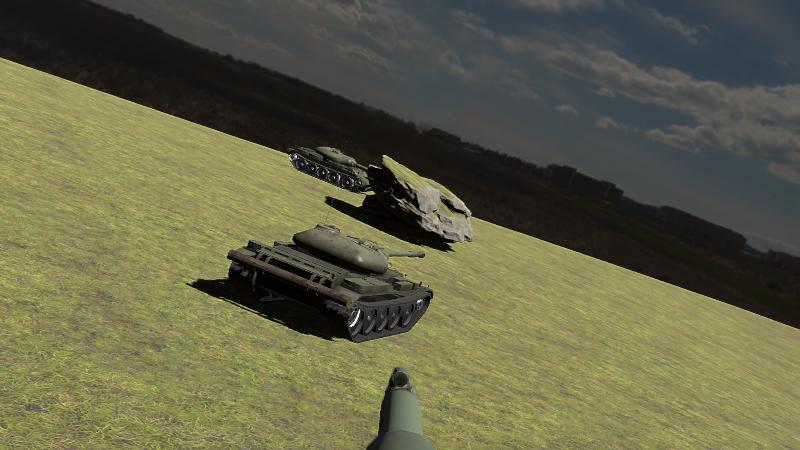Tank: (227, 223, 434, 344), (286, 144, 393, 193)
